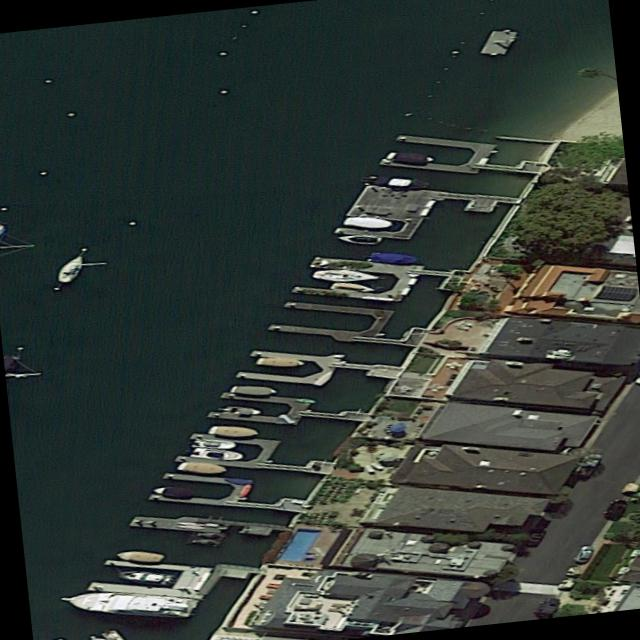ship: (53, 586, 197, 617), (362, 172, 435, 189), (310, 266, 381, 283), (51, 253, 89, 282), (477, 29, 519, 53), (111, 568, 174, 584), (186, 445, 243, 460), (173, 459, 228, 474), (365, 249, 419, 264), (382, 149, 436, 163), (340, 215, 393, 229), (109, 549, 164, 562), (251, 354, 305, 367), (206, 423, 259, 436), (149, 483, 197, 497), (331, 231, 382, 244), (325, 280, 375, 293), (228, 383, 277, 396), (217, 403, 263, 416), (187, 437, 236, 448), (97, 627, 126, 640)
small-vehicle: (569, 451, 603, 476), (598, 497, 627, 518), (531, 595, 561, 615), (571, 543, 597, 561), (522, 530, 545, 546)
